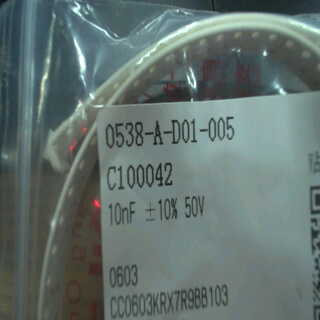10nF: (105, 198, 140, 234)
